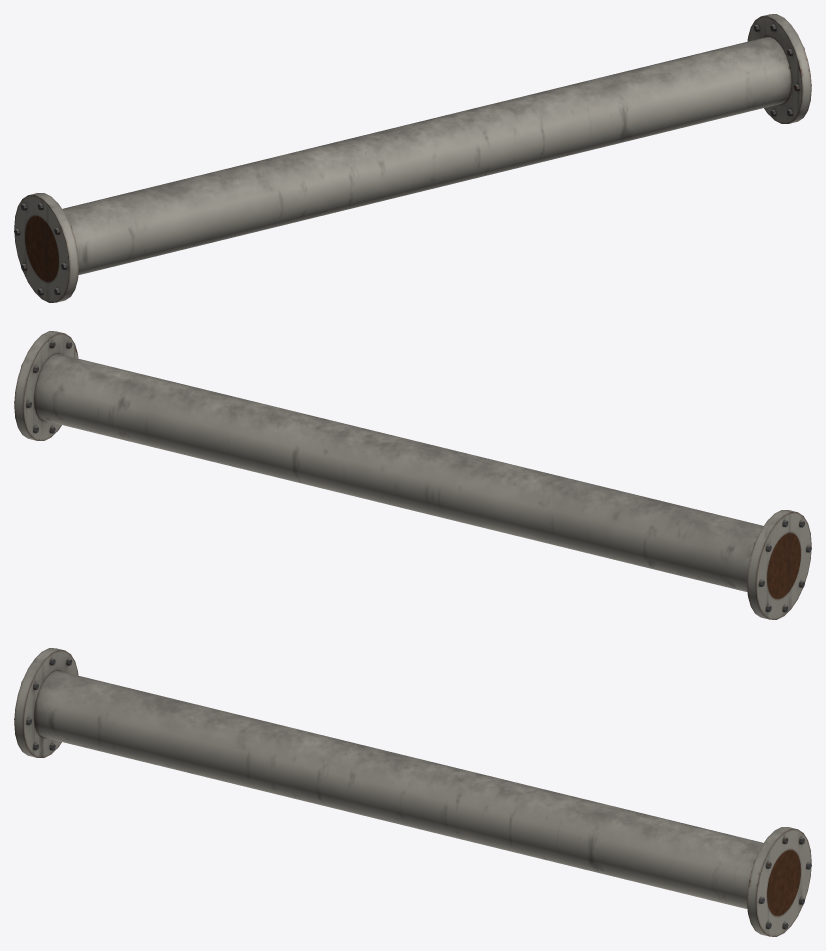
The model's file is SM_Pipe_Straight_2m.fbx.
The picture shows the model from 3 angles, top to bottom: view 1: azimuth 30°, elevation 25°; view 2: azimuth 150°, elevation 25°; view 3: azimuth 330°, elevation 25°; orthographic projection.
Visible parts, largest first — view 1: SM_Pipe_Straight_2m; view 2: SM_Pipe_Straight_2m; view 3: SM_Pipe_Straight_2m.
Part boxes in pixels (x1,y1,x2,y2): SM_Pipe_Straight_2m: [14, 14, 811, 302]; SM_Pipe_Straight_2m: [14, 331, 811, 619]; SM_Pipe_Straight_2m: [14, 648, 811, 936].
Bounding box in the file's own units: 2.02 × 0.26 × 0.26.
1 material, 1 textured.
